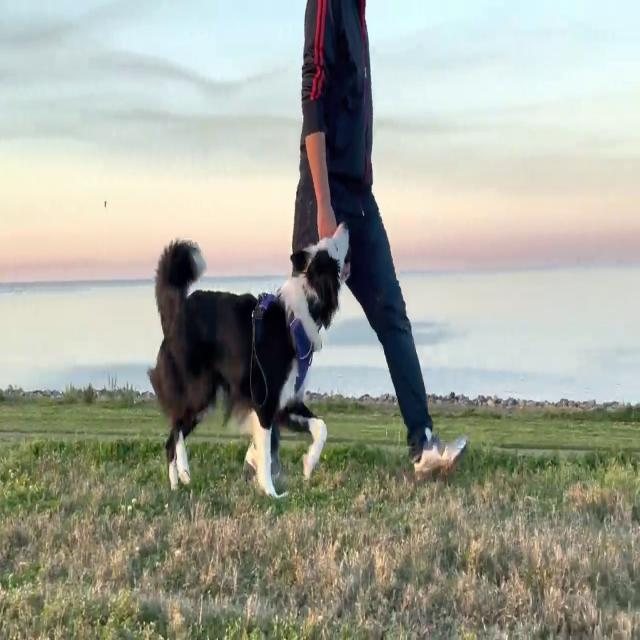Unleashed_Dog: (147, 198, 367, 499)
